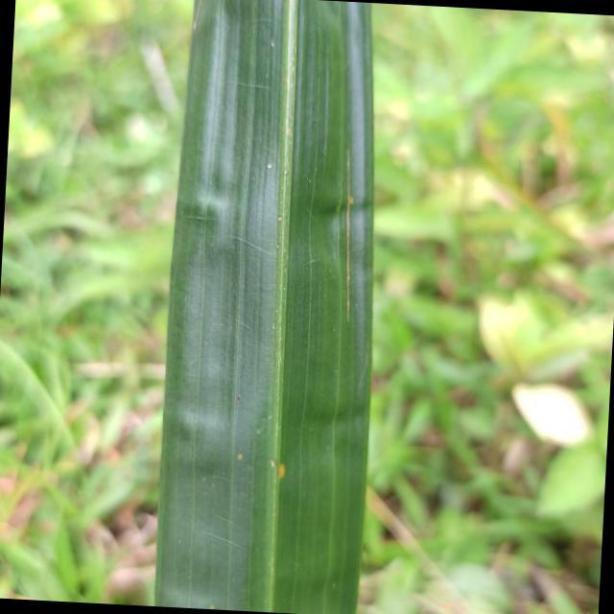Boron: (155, 5, 374, 614)
